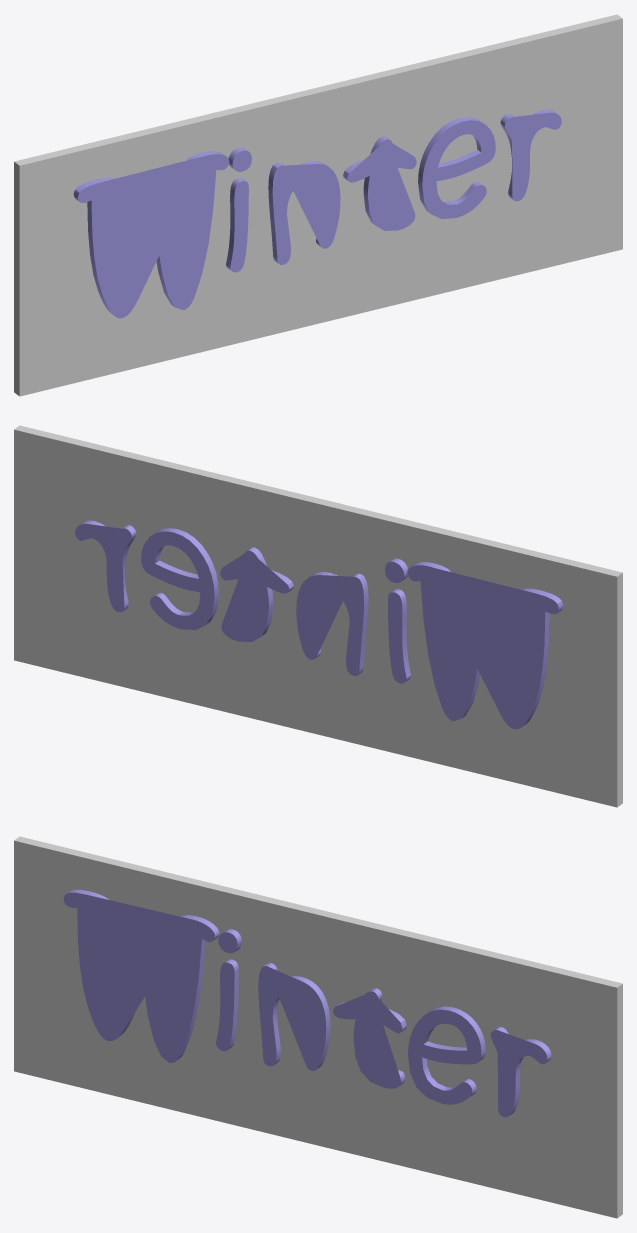
The model's file is winter.fbx.
3 renders of one model, top to bottom at view 1: azimuth 30°, elevation 25°; view 2: azimuth 150°, elevation 25°; view 3: azimuth 330°, elevation 25°, orthographic.
Visible parts, largest first — view 1: pCube1, typeMesh1; view 2: pCube1, typeMesh1; view 3: pCube1, typeMesh1.
Part boxes in pixels (bbox=[...]): pCube1: bbox=[14, 14, 622, 396]; typeMesh1: bbox=[73, 109, 561, 318]; pCube1: bbox=[14, 425, 622, 807]; typeMesh1: bbox=[75, 520, 563, 729]; pCube1: bbox=[14, 836, 622, 1218]; typeMesh1: bbox=[63, 889, 551, 1117].
Bounding box in the file's own units: 60.2 × 22.01 × 2.5.
